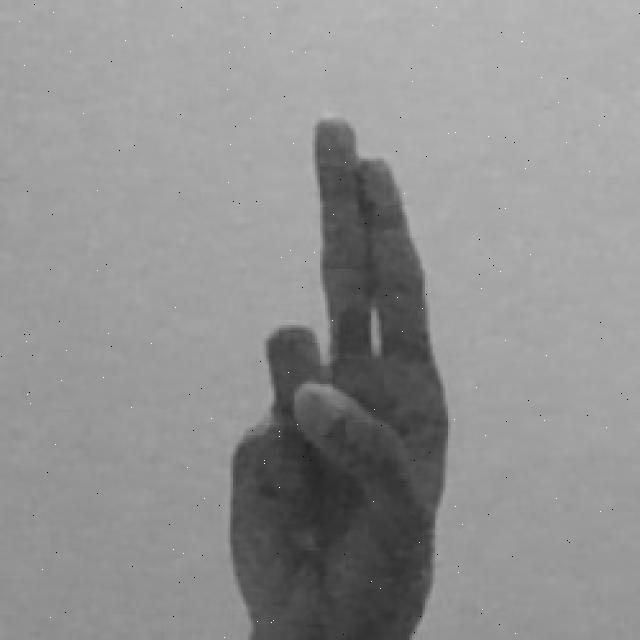U: (218, 110, 452, 640)
